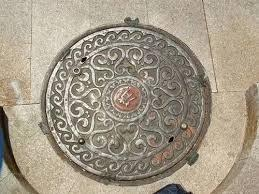wellcover: (36, 21, 206, 182)
